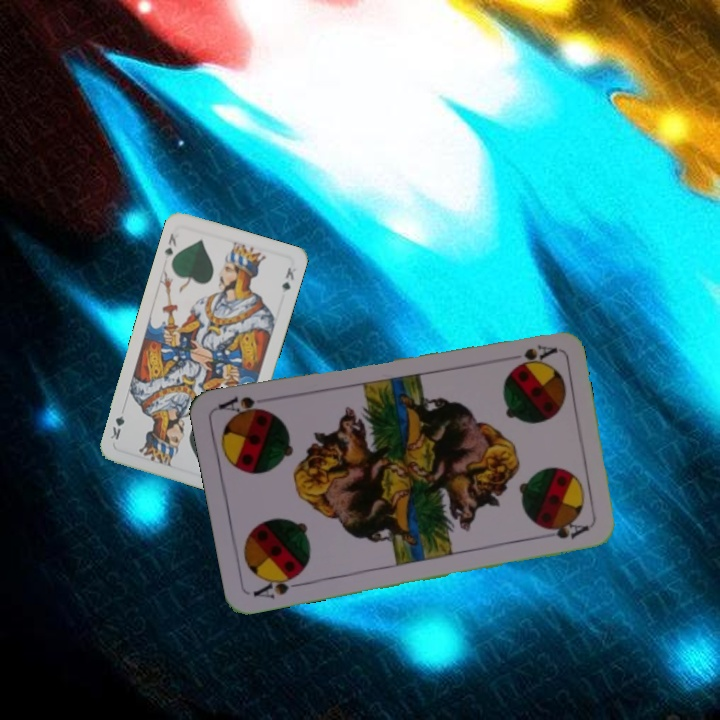GK: (160, 229, 179, 258)
SA: (249, 568, 308, 602), (499, 340, 559, 364)
